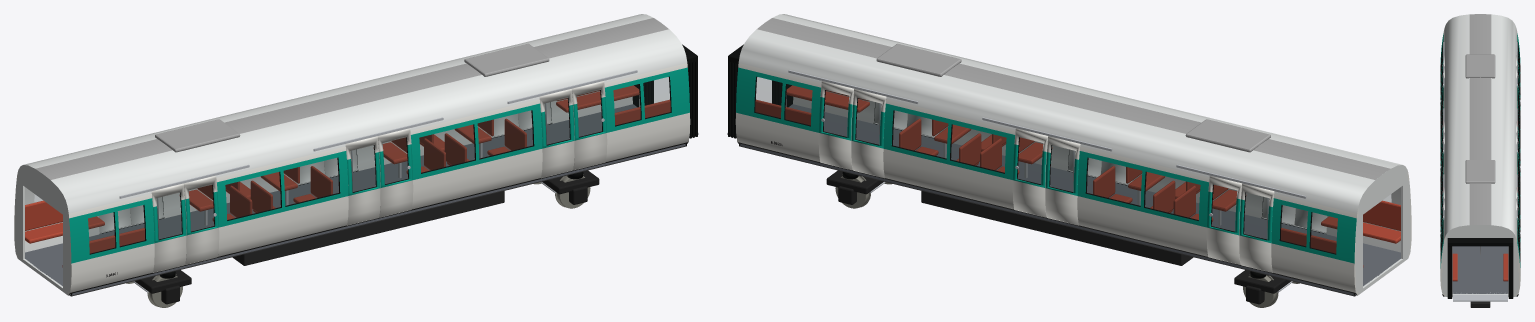
File: mf88_car.glb
3 renders of one model, left to right at view 1: azimuth 30°, elevation 25°; view 2: azimuth 150°, elevation 25°; view 3: azimuth 270°, elevation 25°, orthographic. The views are drawn at different scales.
Parts seen in each view (by area): view 1: METRO_MF88_7bis-3voit_V2_Caisse, METRO_MF88_7bis-3voit_V2_BaieG1, METRO_MF88_7bis-3voit_V2_PorteD2_AV.002, METRO_MF88_7bis-3voit_V2_PorteD3_AV.002, METRO_MF88_7bis-3voit_V2_PorteD1_AV.002, METRO_MF88_7bis-3voit_V2_PorteD2_AR.002, METRO_MF88_7bis-3voit_V2_PorteD1_AR.002, METRO_MF88_7bis-3voit_V2_PorteD3_AR.002, METRO_MF88_7bis-3voit_V2_PorteD1_AR_Vitre, METRO_MF88_7bis-3voit_V2_PorteD2_AR_Vitre, METRO_MF88_7bis-3voit_V2_PorteD3_AR_Vitre, METRO_MF88_7bis-3voit_V2_PorteD1_AV_Vitre (+3 smaller); view 2: METRO_MF88_7bis-3voit_V2_Caisse, METRO_MF88_7bis-3voit_V2_BaieG1, METRO_MF88_7bis-3voit_V2_PorteG2_AV.002, METRO_MF88_7bis-3voit_V2_PorteG3_AV.002, METRO_MF88_7bis-3voit_V2_PorteG1_AV.002, METRO_MF88_7bis-3voit_V2_PorteG2_AR.002, METRO_MF88_7bis-3voit_V2_PorteG1_AR.002, METRO_MF88_7bis-3voit_V2_PorteG3_AR.002, METRO_MF88_7bis-3voit_V2_PorteG1_AR_Vitre, METRO_MF88_7bis-3voit_V2_PorteG2_AR_Vitre, METRO_MF88_7bis-3voit_V2_PorteG3_AR_Vitre, METRO_MF88_7bis-3voit_V2_PorteG1_AV_Vitre (+3 smaller); view 3: METRO_MF88_7bis-3voit_V2_Caisse, METRO_MF88_7bis-3voit_V2_BaieG1, METRO_MF88_7bis-3voit_V2_PorteG2_AV.002, METRO_MF88_7bis-3voit_V2_PorteD2_AV.002, METRO_MF88_7bis-3voit_V2_PorteG2_AR.002, METRO_MF88_7bis-3voit_V2_PorteG3_AV.002, METRO_MF88_7bis-3voit_V2_PorteD2_AR.002, METRO_MF88_7bis-3voit_V2_PorteD3_AV.002, METRO_MF88_7bis-3voit_V2_PorteG1_AR.002, METRO_MF88_7bis-3voit_V2_PorteD1_AR.002, METRO_MF88_7bis-3voit_V2_PorteG1_AV.002, METRO_MF88_7bis-3voit_V2_PorteD1_AV.002 (+2 smaller).
Boxes of the visible parts, x1=… form: METRO_MF88_7bis-3voit_V2_Caisse: x1=14, y1=14, x2=698, y2=307; METRO_MF88_7bis-3voit_V2_BaieG1: x1=34, y1=77, x2=670, y2=253; METRO_MF88_7bis-3voit_V2_PorteD2_AV.002: x1=378, y1=128, x2=413, y2=217; METRO_MF88_7bis-3voit_V2_PorteD3_AV.002: x1=184, y1=175, x2=219, y2=264; METRO_MF88_7bis-3voit_V2_PorteD1_AV.002: x1=572, y1=81, x2=607, y2=170; METRO_MF88_7bis-3voit_V2_PorteD2_AR.002: x1=345, y1=136, x2=380, y2=225; METRO_MF88_7bis-3voit_V2_PorteD1_AR.002: x1=539, y1=89, x2=574, y2=178; METRO_MF88_7bis-3voit_V2_PorteD3_AR.002: x1=151, y1=183, x2=186, y2=272; METRO_MF88_7bis-3voit_V2_PorteD1_AR_Vitre: x1=544, y1=98, x2=569, y2=144; METRO_MF88_7bis-3voit_V2_PorteD2_AR_Vitre: x1=350, y1=146, x2=375, y2=191; METRO_MF88_7bis-3voit_V2_PorteD3_AR_Vitre: x1=156, y1=193, x2=181, y2=239; METRO_MF88_7bis-3voit_V2_PorteD1_AV_Vitre: x1=577, y1=90, x2=601, y2=136; METRO_MF88_7bis-3voit_V2_Caisse: x1=727, y1=14, x2=1411, y2=307; METRO_MF88_7bis-3voit_V2_BaieG1: x1=755, y1=77, x2=1391, y2=253; METRO_MF88_7bis-3voit_V2_PorteG2_AV.002: x1=1012, y1=128, x2=1047, y2=217; METRO_MF88_7bis-3voit_V2_PorteG3_AV.002: x1=1206, y1=175, x2=1241, y2=264; METRO_MF88_7bis-3voit_V2_PorteG1_AV.002: x1=818, y1=81, x2=853, y2=170; METRO_MF88_7bis-3voit_V2_PorteG2_AR.002: x1=1045, y1=136, x2=1080, y2=225; METRO_MF88_7bis-3voit_V2_PorteG1_AR.002: x1=851, y1=89, x2=886, y2=178; METRO_MF88_7bis-3voit_V2_PorteG3_AR.002: x1=1239, y1=183, x2=1274, y2=272; METRO_MF88_7bis-3voit_V2_PorteG1_AR_Vitre: x1=856, y1=98, x2=881, y2=144; METRO_MF88_7bis-3voit_V2_PorteG2_AR_Vitre: x1=1050, y1=146, x2=1075, y2=191; METRO_MF88_7bis-3voit_V2_PorteG3_AR_Vitre: x1=1244, y1=193, x2=1269, y2=239; METRO_MF88_7bis-3voit_V2_PorteG1_AV_Vitre: x1=824, y1=90, x2=848, y2=136; METRO_MF88_7bis-3voit_V2_Caisse: x1=1440, y1=14, x2=1520, y2=307; METRO_MF88_7bis-3voit_V2_BaieG1: x1=1442, y1=100, x2=1518, y2=196; METRO_MF88_7bis-3voit_V2_PorteG2_AV.002: x1=1516, y1=132, x2=1520, y2=193; METRO_MF88_7bis-3voit_V2_PorteD2_AV.002: x1=1440, y1=132, x2=1444, y2=193; METRO_MF88_7bis-3voit_V2_PorteG2_AR.002: x1=1516, y1=121, x2=1520, y2=176; METRO_MF88_7bis-3voit_V2_PorteG3_AV.002: x1=1516, y1=66, x2=1520, y2=127; METRO_MF88_7bis-3voit_V2_PorteD2_AR.002: x1=1440, y1=121, x2=1444, y2=176; METRO_MF88_7bis-3voit_V2_PorteD3_AV.002: x1=1440, y1=66, x2=1444, y2=127; METRO_MF88_7bis-3voit_V2_PorteG1_AR.002: x1=1516, y1=187, x2=1520, y2=236; METRO_MF88_7bis-3voit_V2_PorteD1_AR.002: x1=1440, y1=187, x2=1444, y2=236; METRO_MF88_7bis-3voit_V2_PorteG1_AV.002: x1=1516, y1=198, x2=1520, y2=247; METRO_MF88_7bis-3voit_V2_PorteD1_AV.002: x1=1440, y1=198, x2=1444, y2=247.
Size of the model in its own units: 15.63 by 3.49 by 2.45.
Materials: 5 (5 with a texture image).
